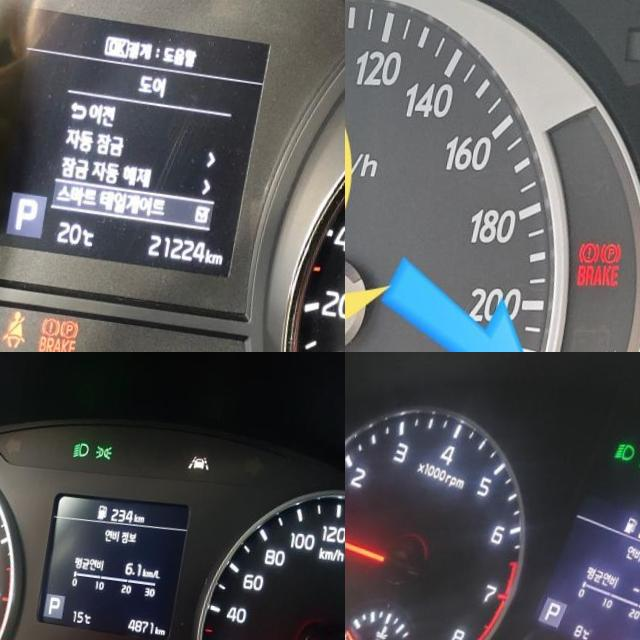LaneCenteringOff: (193, 442, 215, 458)
Low beam: (617, 428, 640, 453), (77, 432, 95, 450)
SideLamp: (100, 433, 118, 451)
